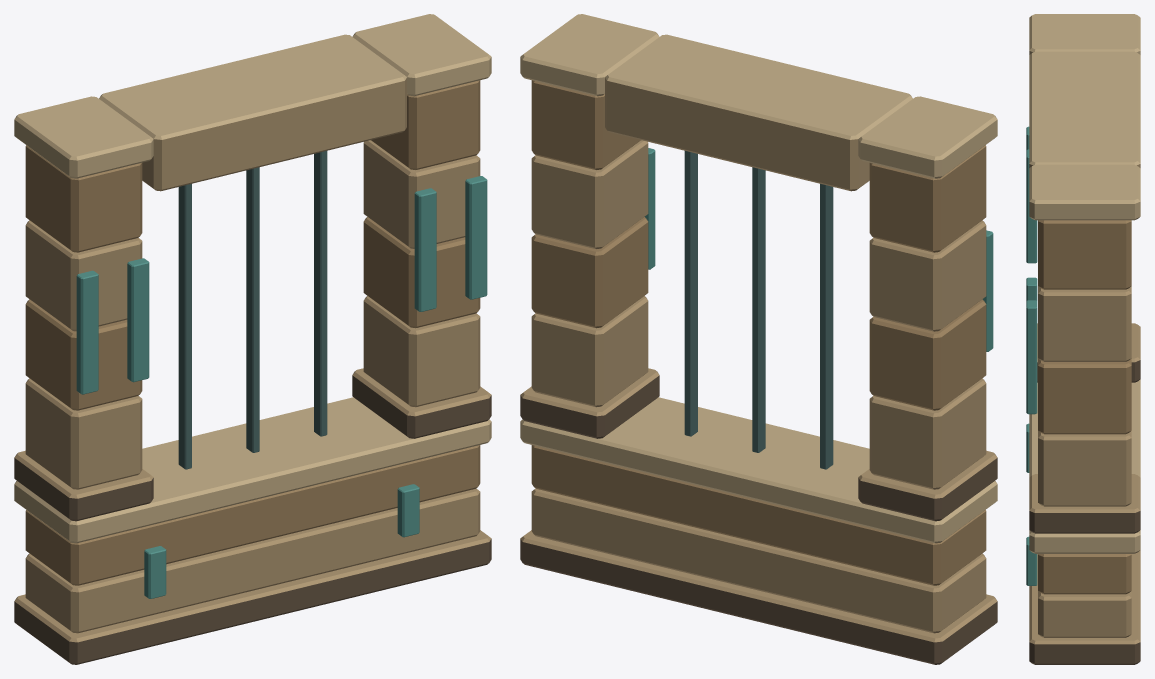
File: wall-window.glb
3 renders of one model, left to right at view 1: azimuth 30°, elevation 25°; view 2: azimuth 150°, elevation 25°; view 3: azimuth 270°, elevation 25°, orthographic. The views are drawn at different scales.
Parts seen in each view (by area): view 1: wall-window__body; view 2: wall-window__body; view 3: wall-window__body.
Part boxes in pixels (left/top/right/bottom): wall-window__body: left=14, top=14, right=491, bottom=664; wall-window__body: left=520, top=14, right=997, bottom=664; wall-window__body: left=1026, top=14, right=1140, bottom=664.
Bounding box in the file's own units: 2 × 2.3 × 0.513.
